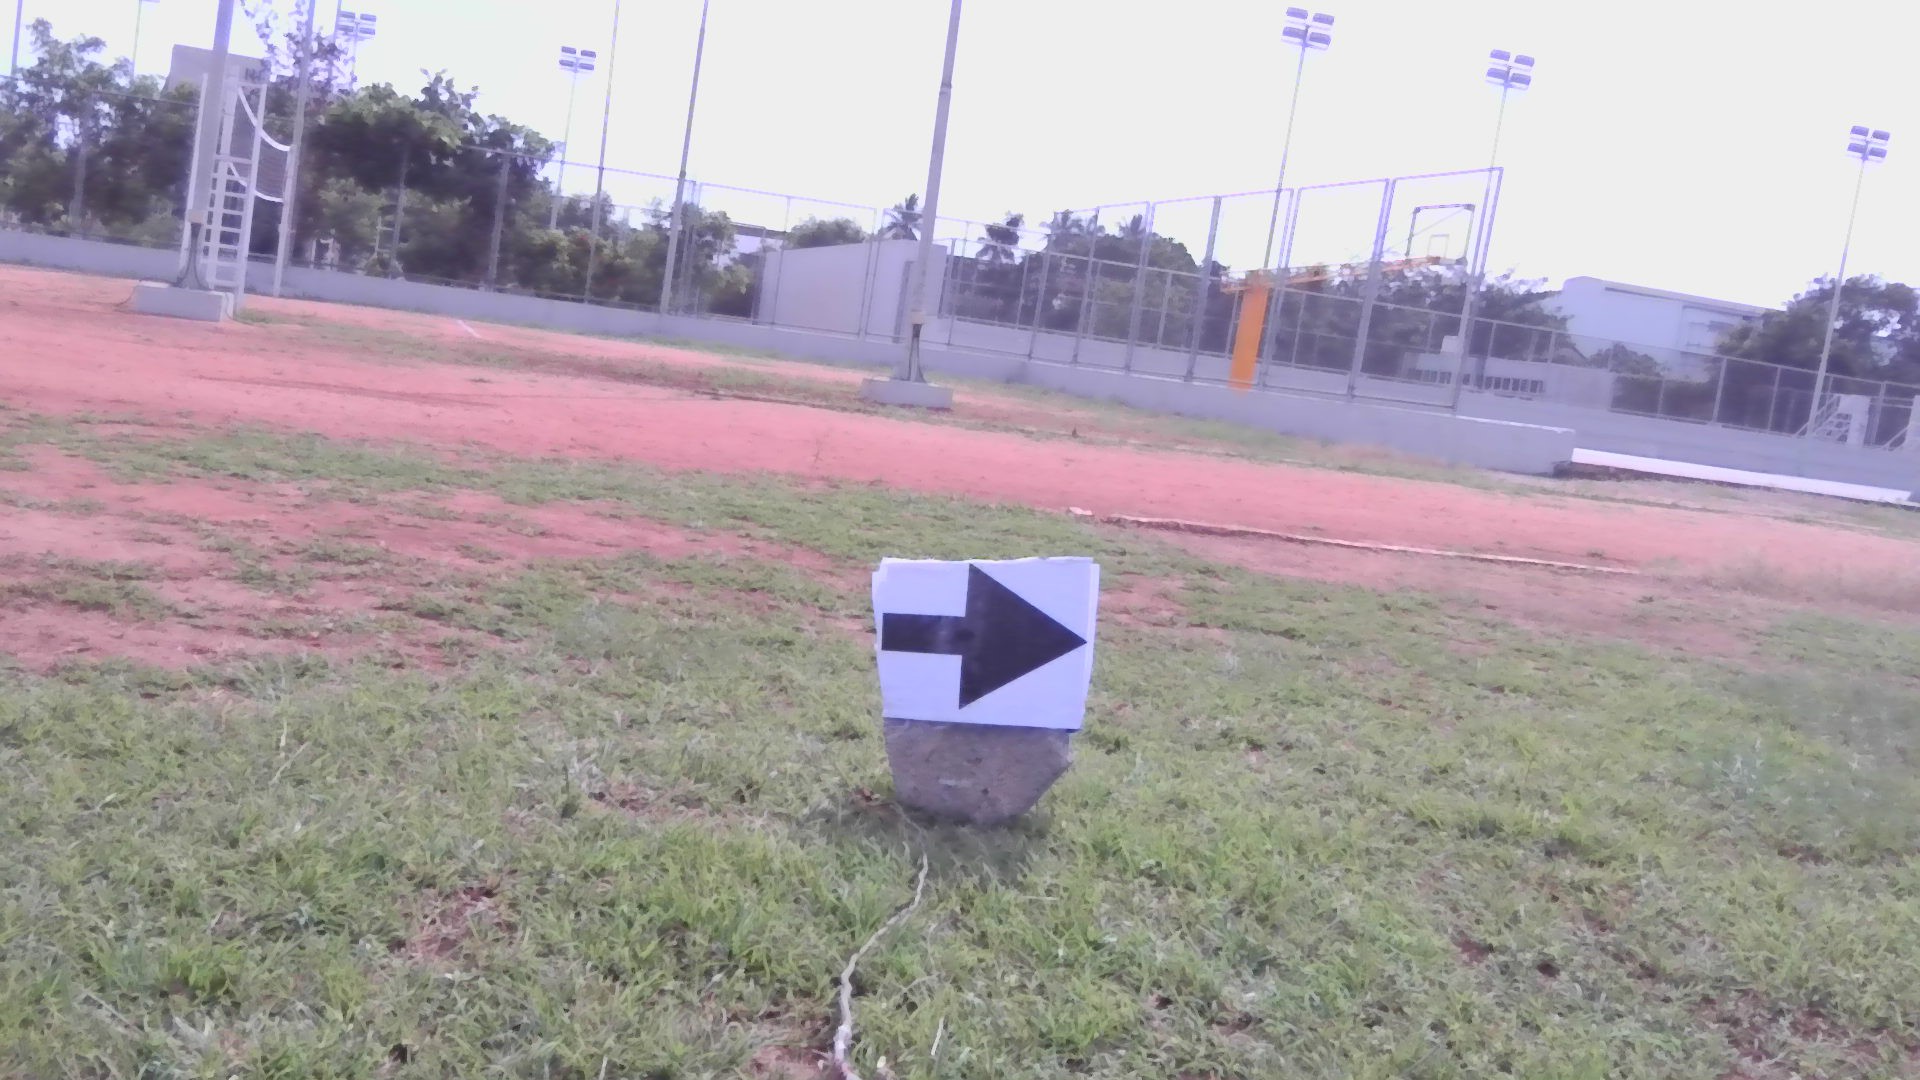leftDir: (878, 566, 1098, 720)
